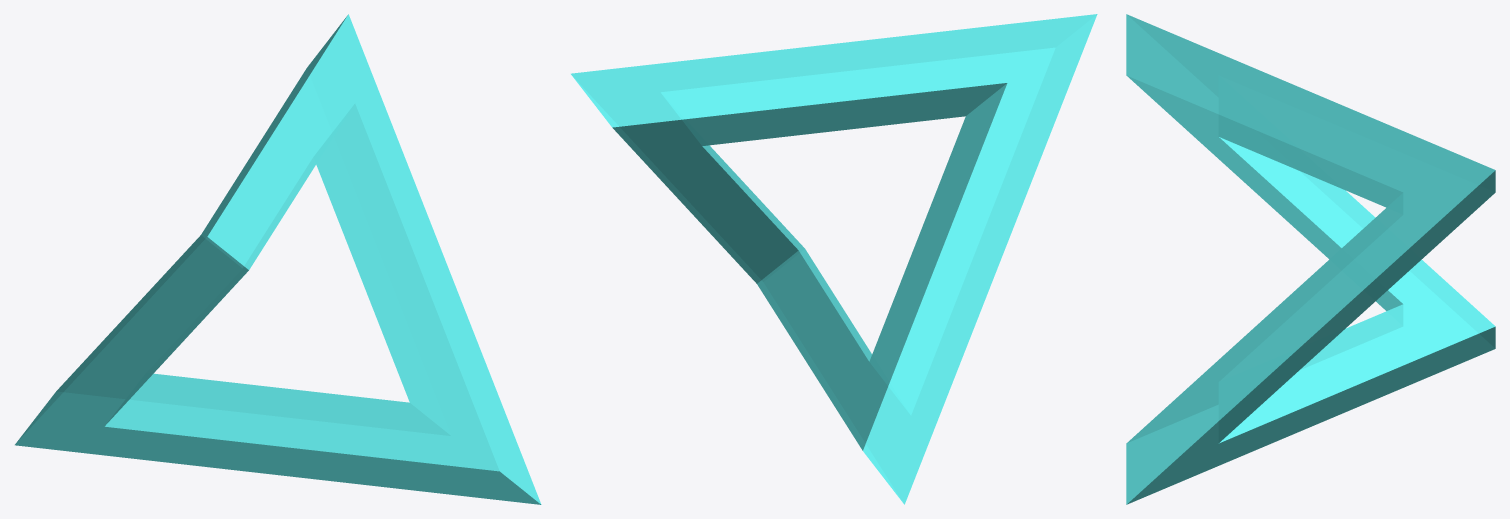
Rendered from HexagonalToroid_A.obj.
3 renders of one model, left to right at view 1: azimuth 30°, elevation 25°; view 2: azimuth 150°, elevation 25°; view 3: azimuth 270°, elevation 25°, orthographic. The views are drawn at different scales.
Size of the model in its own units: 8 by 8 by 8.
